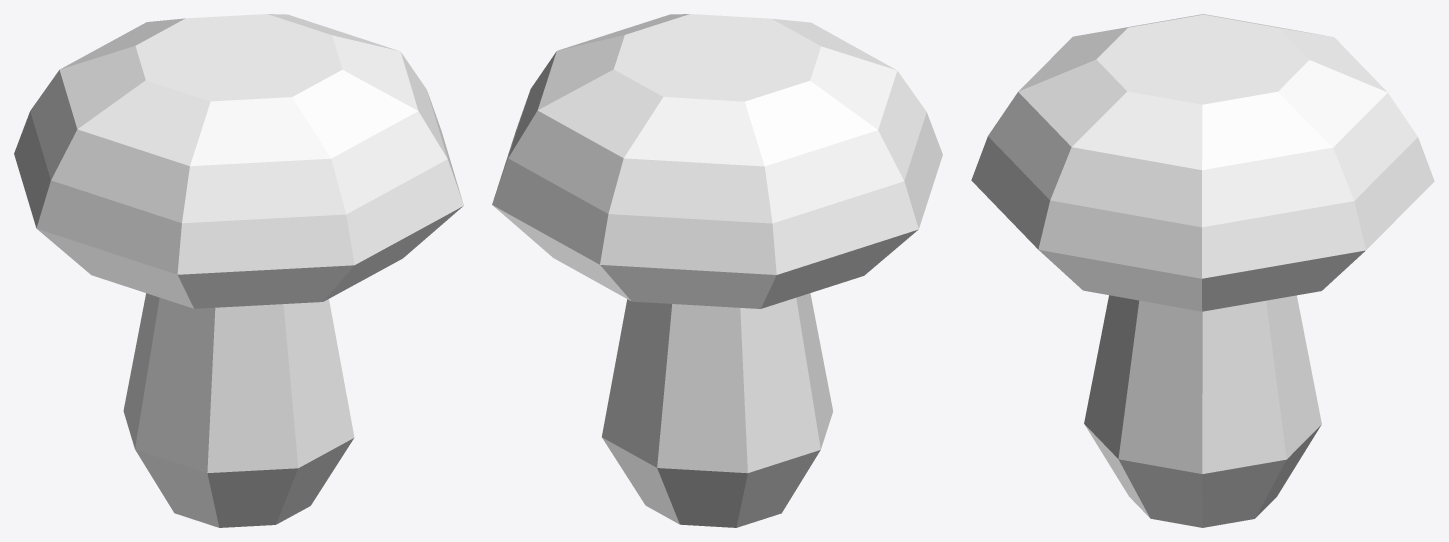
File: Mushroom 05.fbx
The picture shows the model from 3 angles, left to right: view 1: azimuth 30°, elevation 25°; view 2: azimuth 150°, elevation 25°; view 3: azimuth 270°, elevation 25°; orthographic projection.
Parts seen in each view (by area): view 1: Mushroom 05; view 2: Mushroom 05; view 3: Mushroom 05.
Boxes of the visible parts, bbox=[...] form: Mushroom 05: bbox=[14, 14, 463, 527]; Mushroom 05: bbox=[492, 14, 942, 527]; Mushroom 05: bbox=[971, 14, 1434, 527].
Size of the model in its own units: 20.64 by 21.47 by 20.64.
